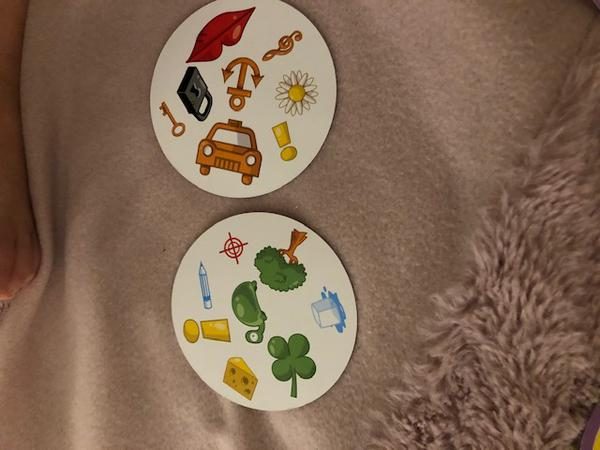ancre: (219, 52, 265, 115)
arbre: (250, 224, 313, 293)
bouche: (184, 4, 255, 68)
cadenas: (175, 65, 214, 122)
cible: (217, 229, 248, 265)
cle: (157, 101, 187, 139)
crayon: (190, 259, 214, 309)
fleur: (273, 65, 320, 120)
fromage: (221, 353, 262, 401)
glacon: (309, 285, 350, 340)
note: (261, 29, 305, 64)
point_exclamation: (175, 315, 235, 349), (270, 121, 298, 164)
tortue: (228, 278, 268, 345)
trefle: (263, 330, 319, 400)
voiture: (195, 119, 262, 188)
